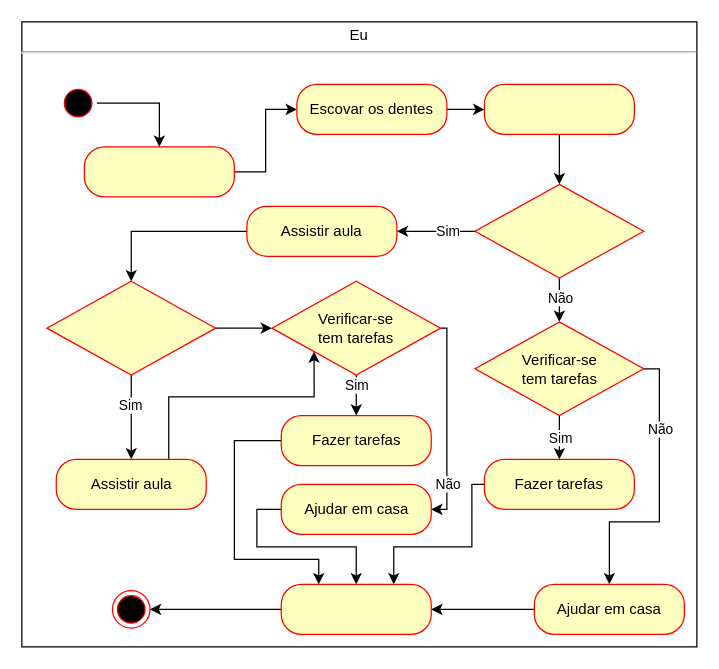
The diagram is 719 pixels wide and 669 high, and some of its shapes have lost their labels. Here are the shapes that lost their labels. From the top down, the centre of each, then its label:
At [558,108]: "Tomar café".
At [158,171]: "Levantar da cama".
At [559,230]: "Verificar-se tem aula às 07:30".
At [131,327]: "Verificar-se tem aula às 09:20".
At [355,608]: "Almoçar".
